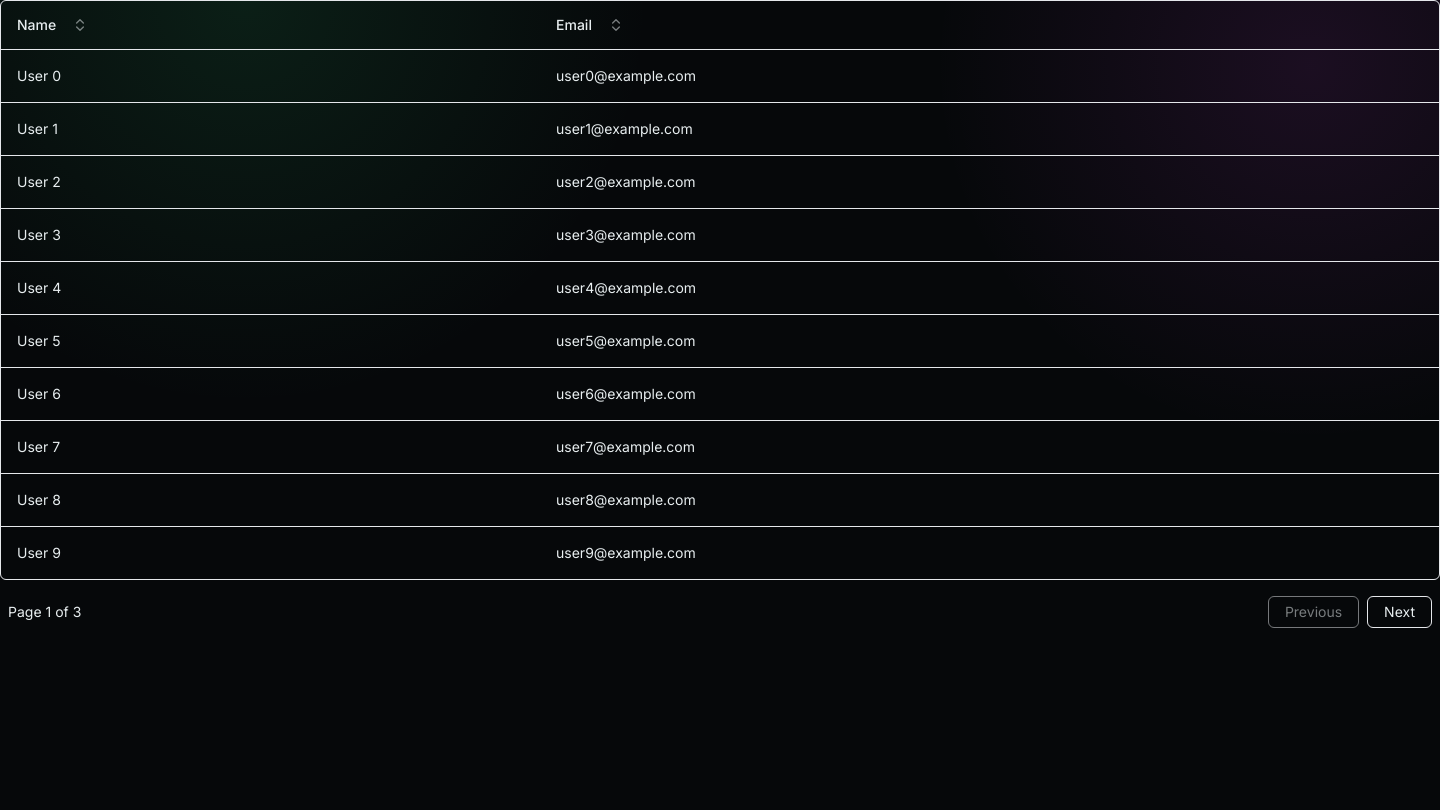
Test: DataTable › navigates pages correctly
Check: the text "User 0" is shown, box left=1, top=49, right=540, bottom=102
Check: the text "User 10" is not shown
Click next
What coordinates should you click on to do the following:
click the button "Next"
I would click on:
 (1400, 612)
Its box is left=1367, top=596, right=1432, bottom=628.
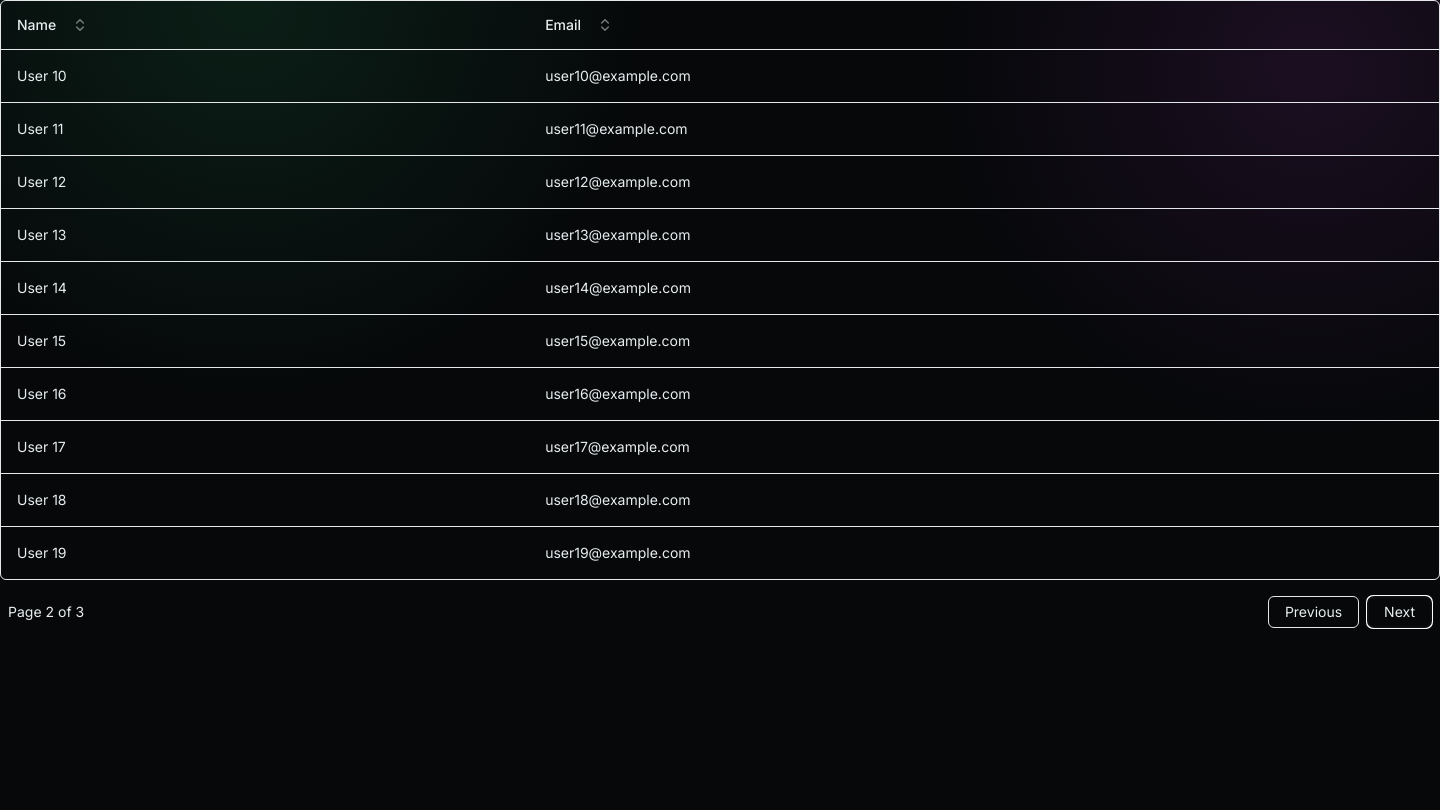
Check: the text "User 0" is gone
Check: the text "User 10" is shown, box left=1, top=49, right=529, bottom=102
